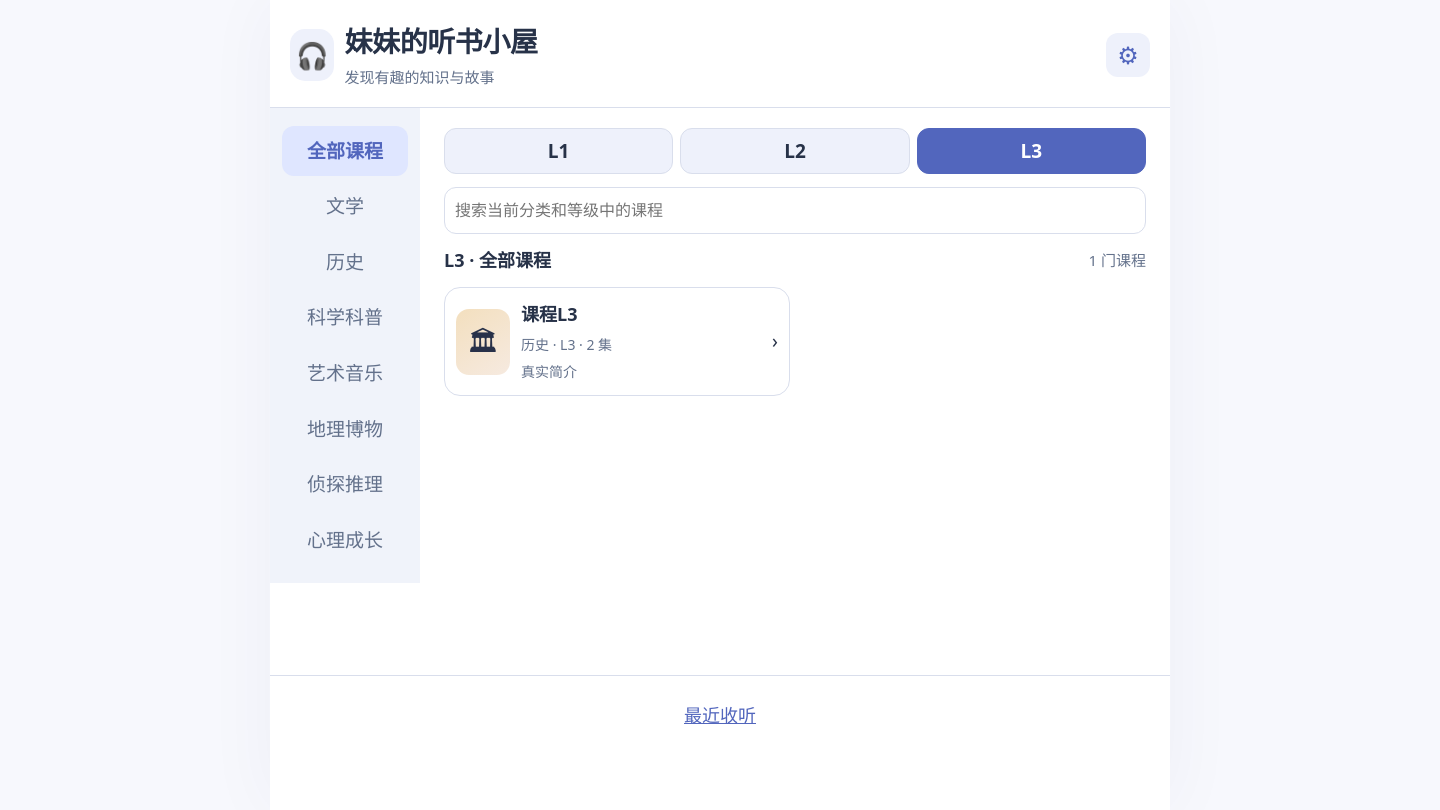
Test case: theme and language persist without remounting player
Expected: the text "课程L3" is shown, [521,302,578,326]
Click the link named "设置": coordinates (1128, 55) [1106,33,1150,77]
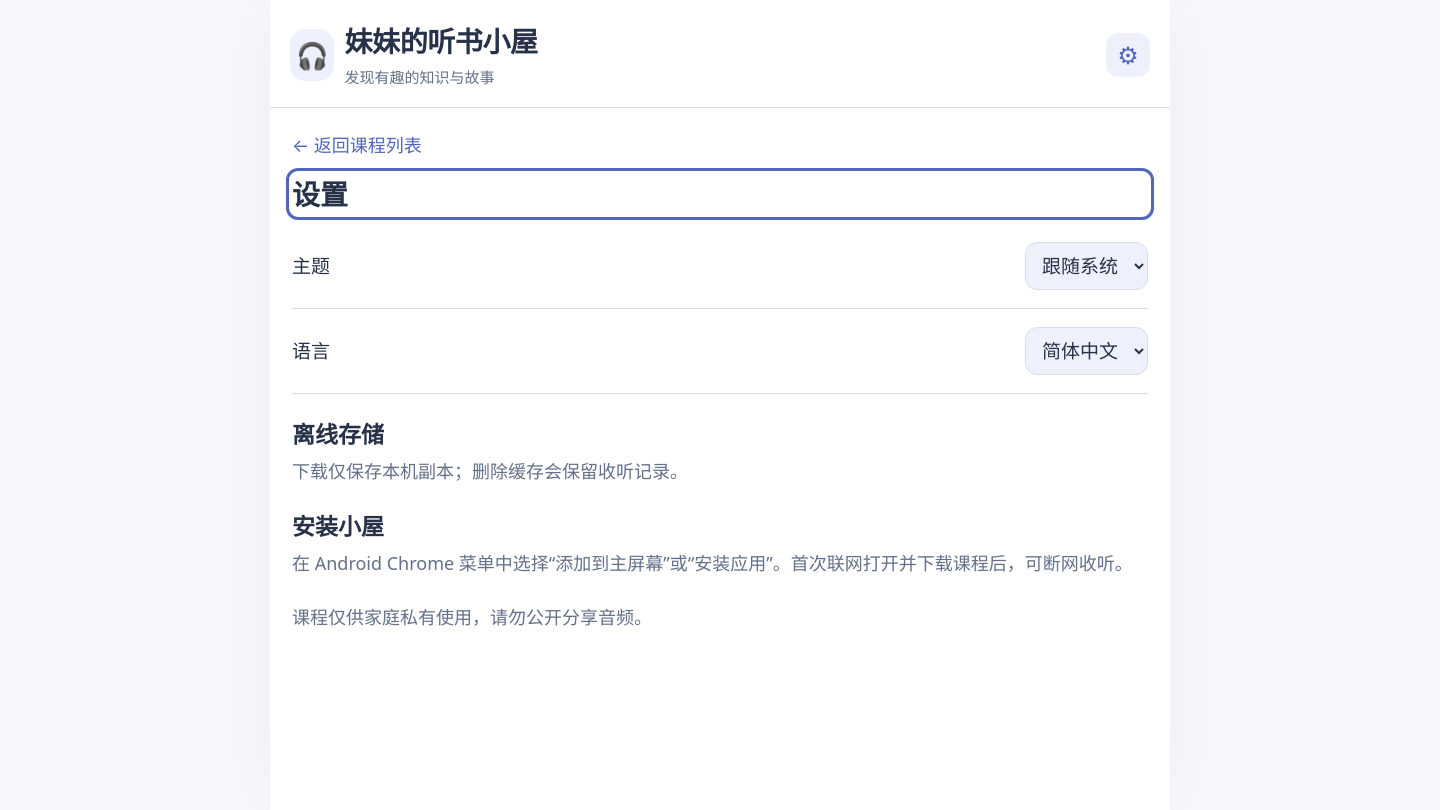
Select "深色" in the dropdown labelled "主题": coordinates (1086, 266) [1025,242,1148,290]
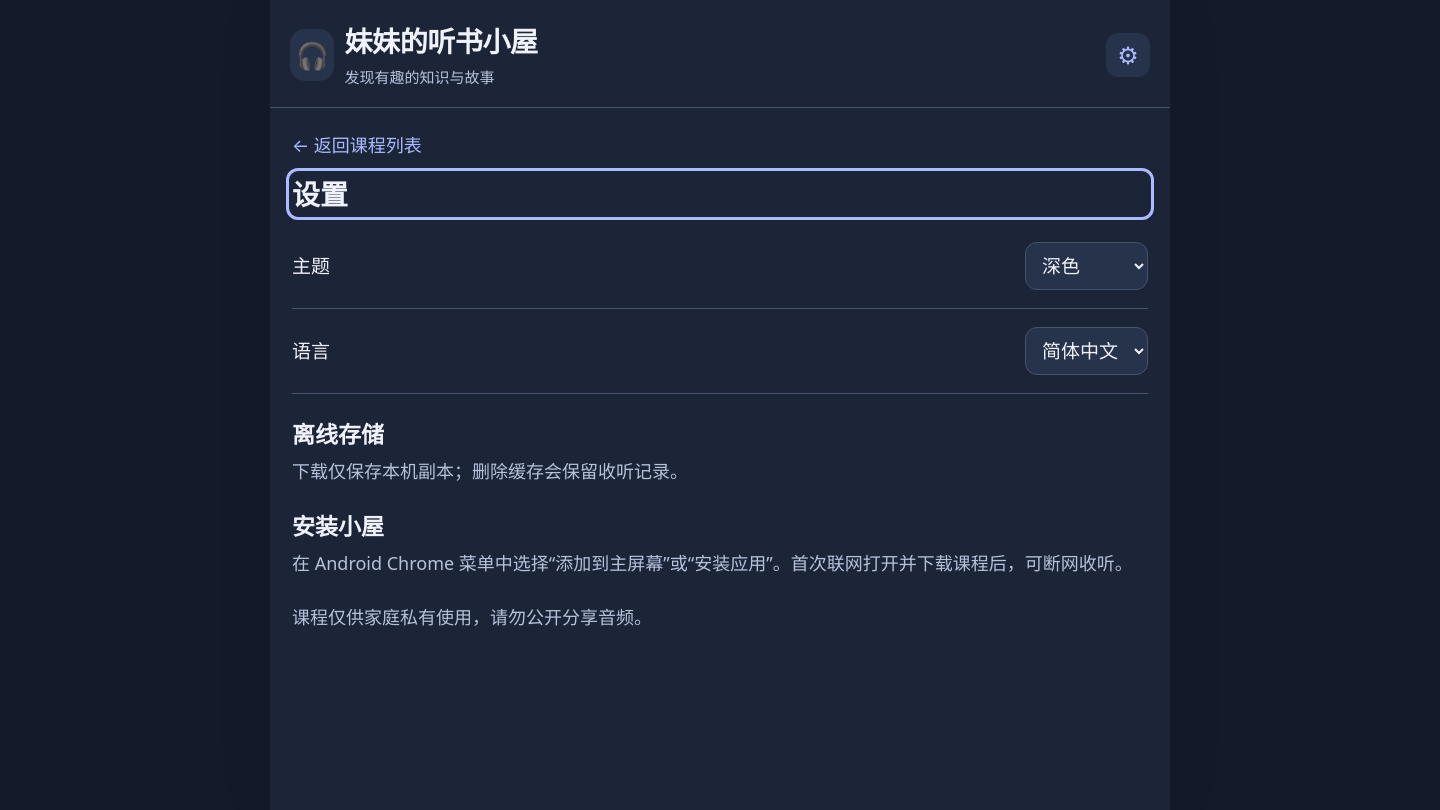
Select "English" in the dropdown labelled "语言": coordinates (1086, 351) [1025,327,1148,375]
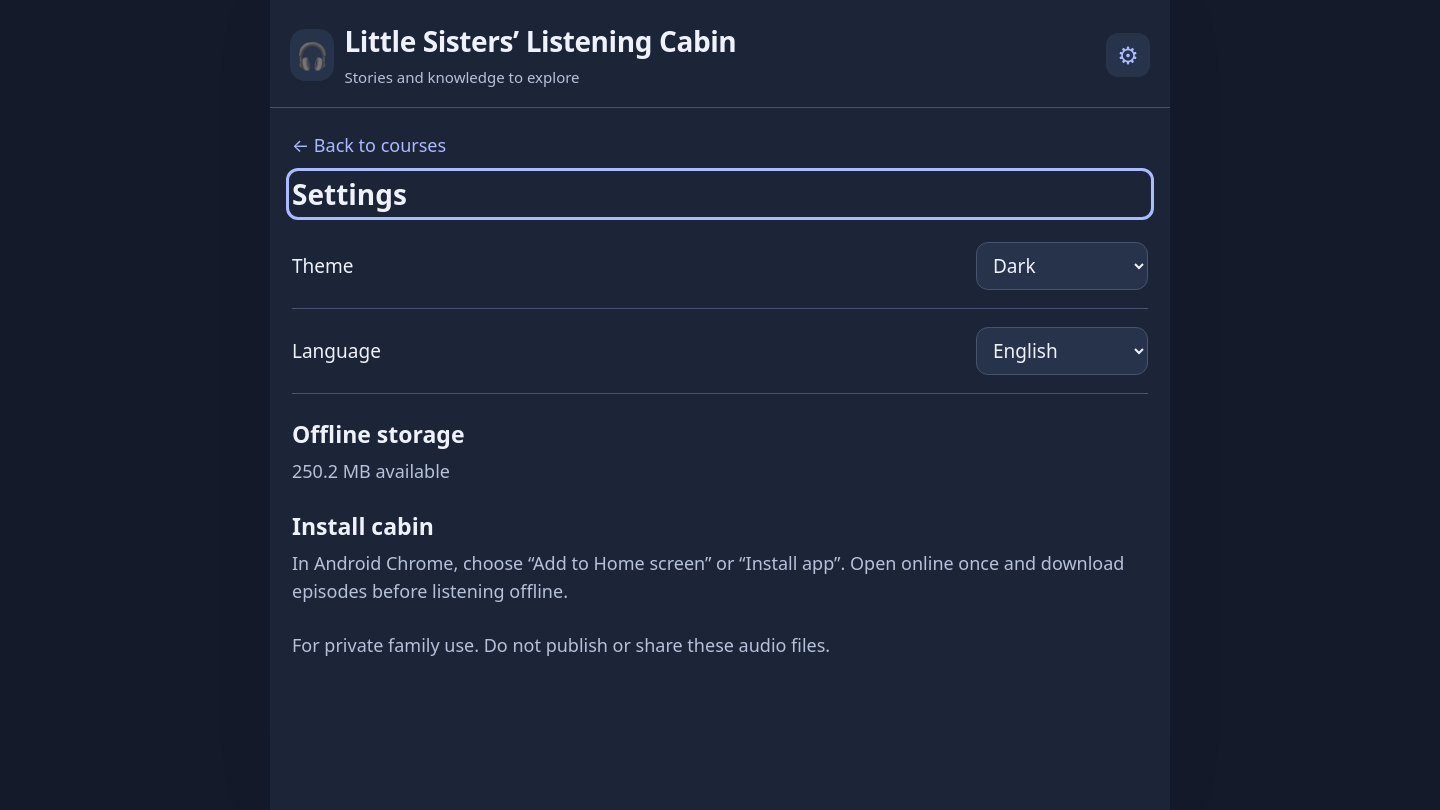
Expected: the heading "Settings" is shown, [292,175,407,213]
